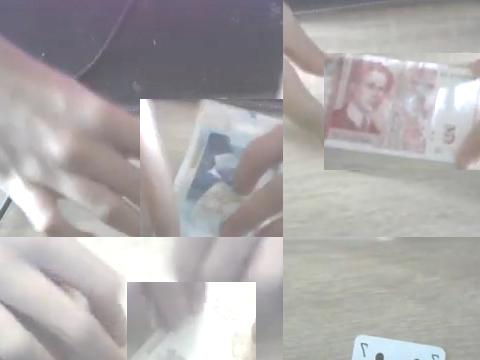10leva: (131, 282, 253, 360)
20leva: (176, 99, 283, 237)
5leva: (324, 53, 480, 170)
